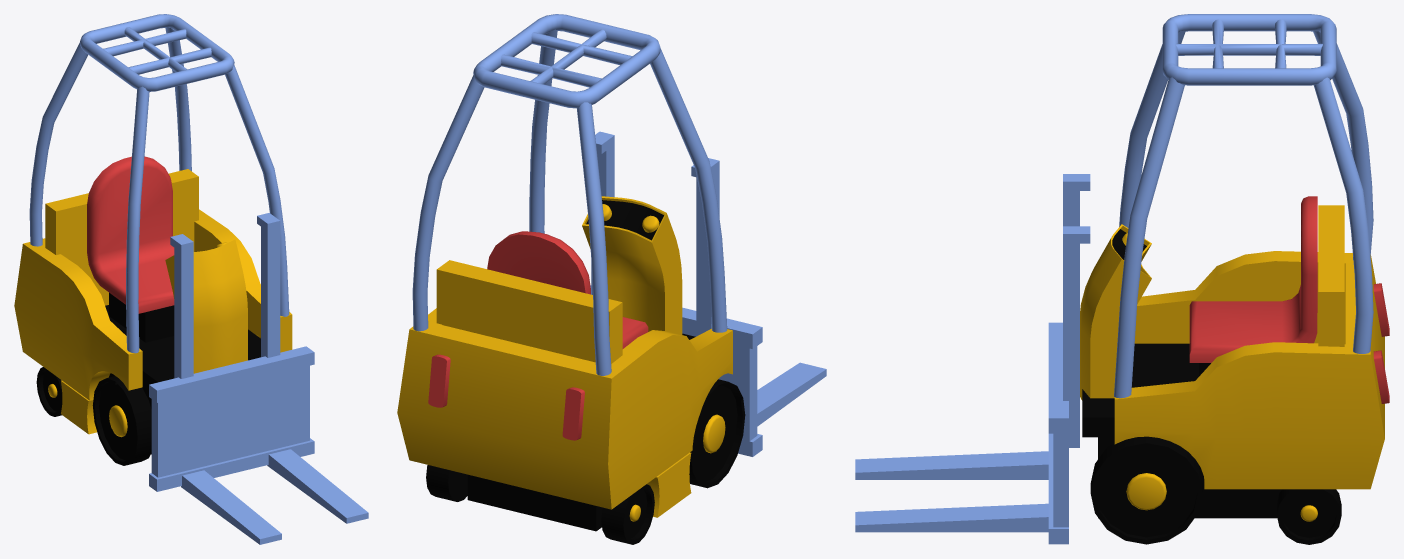
File: FORKLIFT.fbx
3 views of the same model, side by side, from view 1: azimuth 30°, elevation 25°; view 2: azimuth 150°, elevation 25°; view 3: azimuth 270°, elevation 25° (orthographic). The views are drawn at different scales.
Visible parts, largest first — view 1: Cube.009, Cube.001, tyre.004, tyre; view 2: Cube.009, Cube.001, tyre.004, tyre, tyre.006; view 3: Cube.009, Cube.001, tyre.005, tyre.006.
Part boxes in pixels (<box>): Cube.009: <box>14,14,292,454</box>; Cube.001: <box>149,346,368,544</box>; tyre.004: <box>92,376,151,465</box>; tyre: <box>36,367,62,416</box>; Cube.009: <box>397,14,732,531</box>; Cube.001: <box>590,285,826,456</box>; tyre.004: <box>689,379,745,488</box>; tyre: <box>601,484,654,544</box>; tyre.006: <box>426,465,467,501</box>; Cube.009: <box>1063,14,1389,518</box>; Cube.001: <box>855,322,1068,544</box>; tyre.005: <box>1090,436,1202,544</box>; tyre.006: <box>1277,489,1341,544</box>.
Size of the model in its own units: 166 by 337 by 356.
